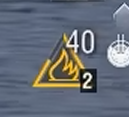2fire: (32, 56, 98, 94)
